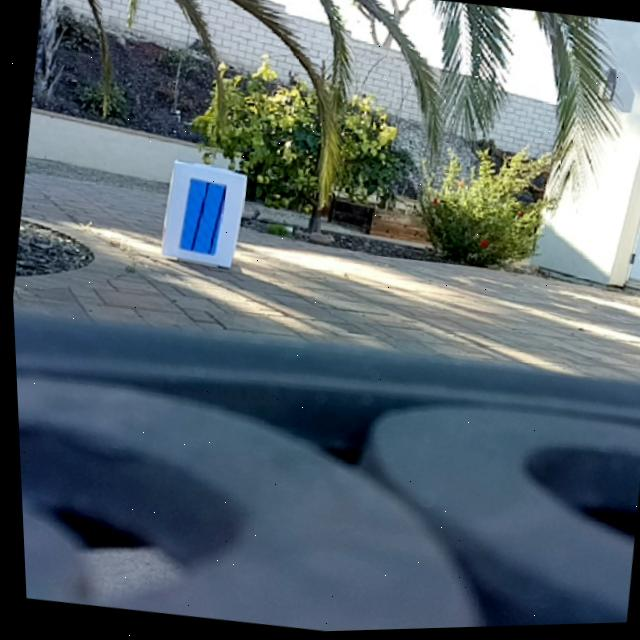led: (175, 178, 226, 258)
